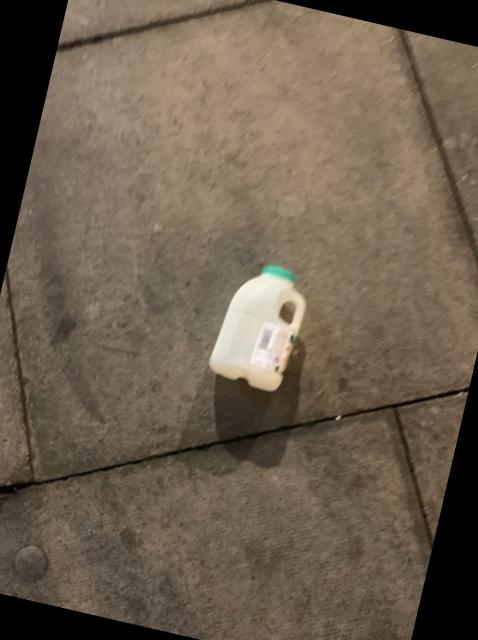plastic: (210, 264, 307, 389)
